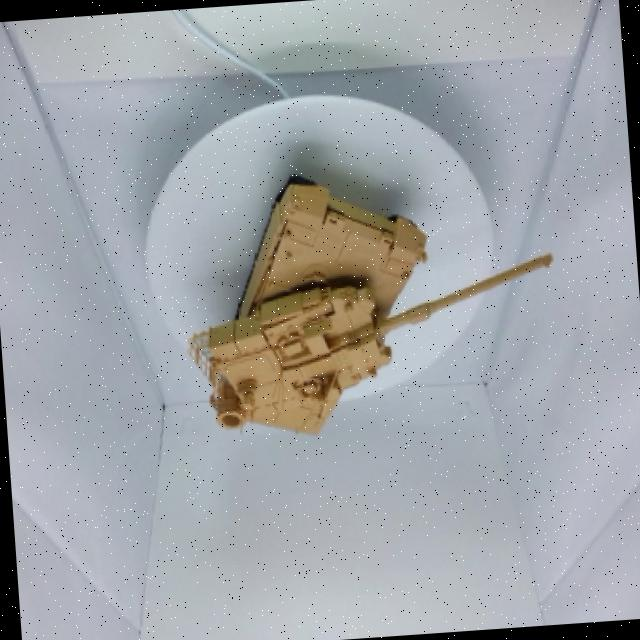korea tank: (162, 132, 576, 472)
